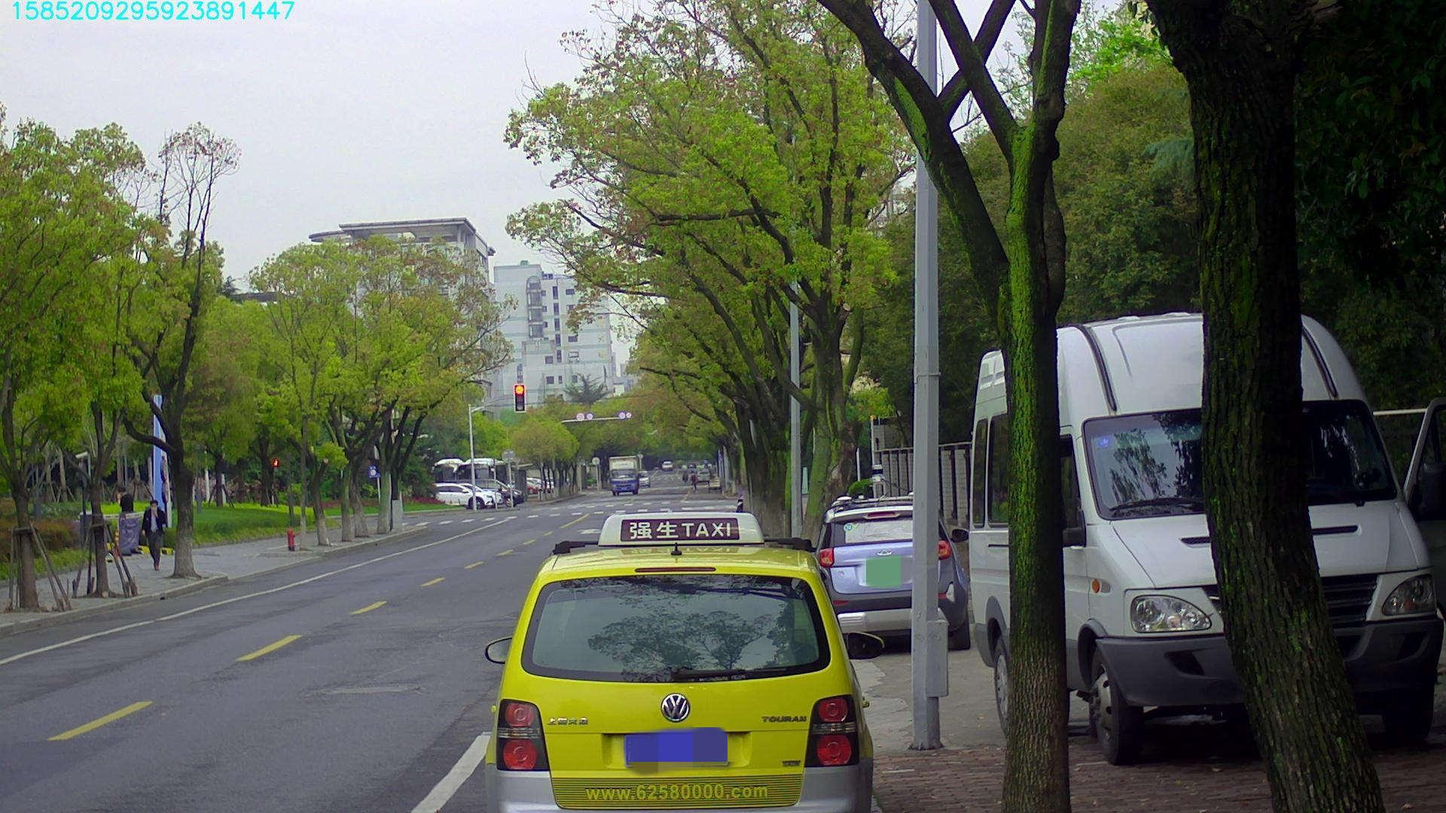red: (514, 383, 524, 412)
